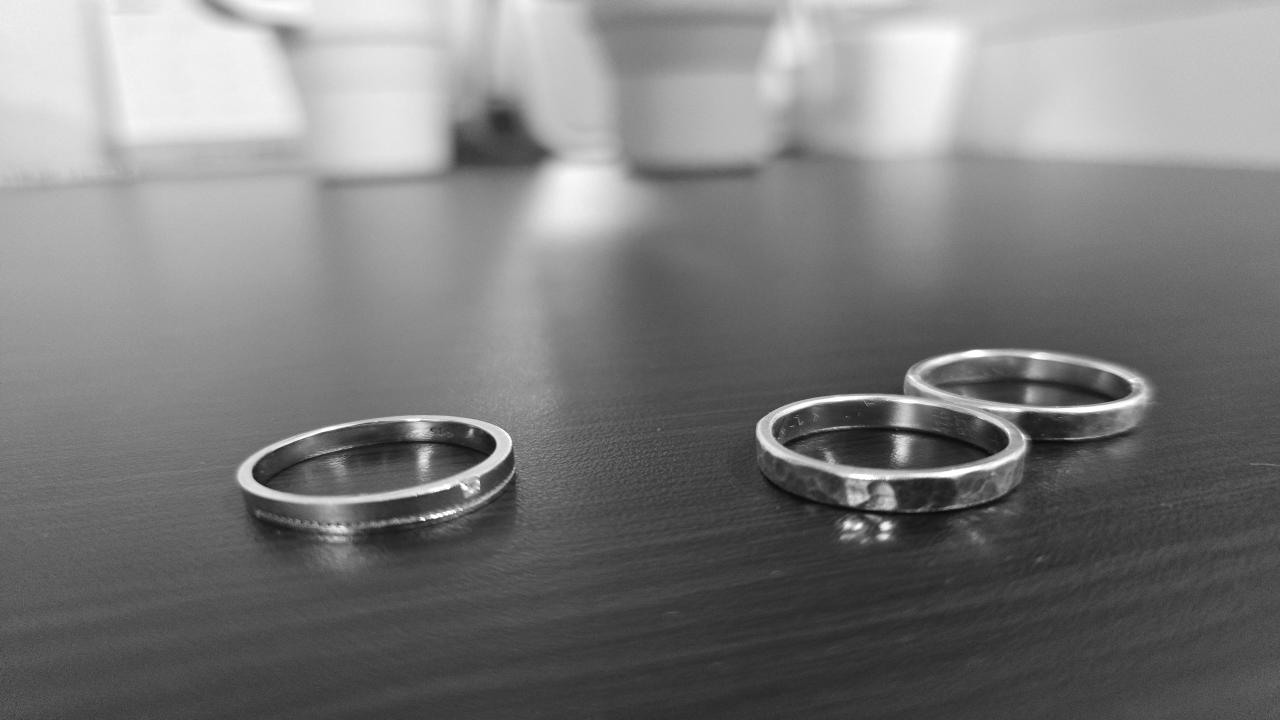ring: (233, 413, 521, 536), (748, 392, 1029, 514), (900, 348, 1158, 444)
